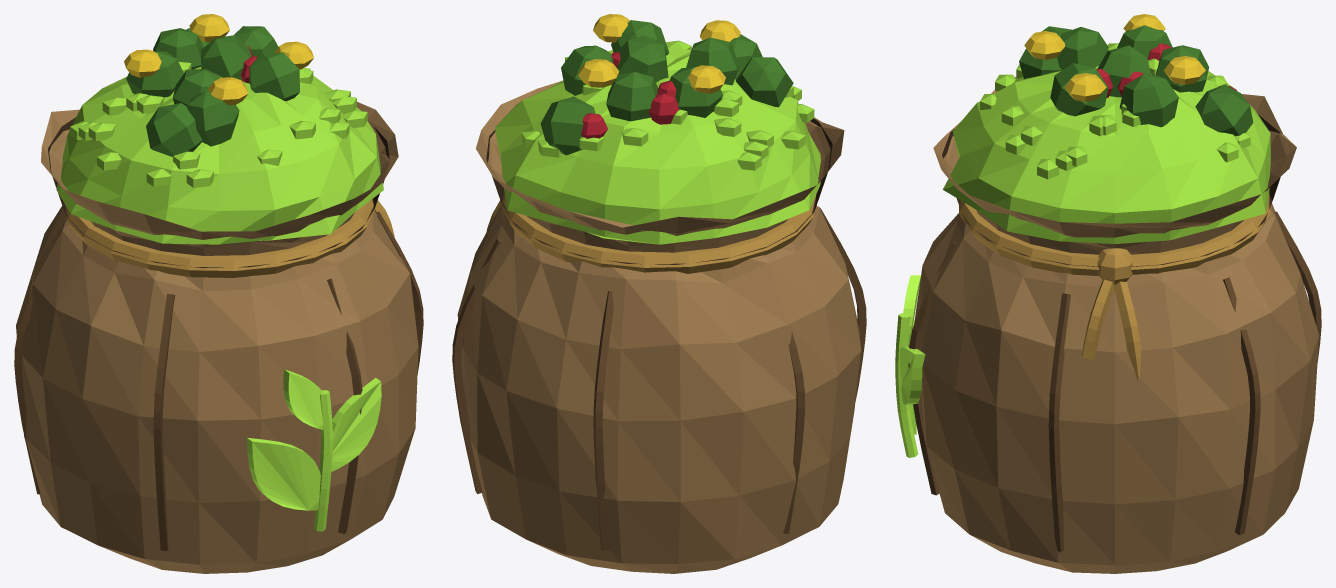
Rendered from VFP_Feed_TamingHerb.obj.
3 views of the same model, side by side, from view 1: azimuth 30°, elevation 25°; view 2: azimuth 150°, elevation 25°; view 3: azimuth 270°, elevation 25° (orthographic).
Parts seen in each view (by area): view 1: Sack, Feed, Herbs, Symbol, Cord, Folds, Flowers, SackInner; view 2: Sack, Feed, Herbs, Folds, Cord, Flowers, Berries, SackInner; view 3: Sack, Feed, Herbs, Cord, Folds, Symbol, Flowers, SackInner, Berries.
Part boxes in pixels (box(x1,y1,x2,y2)): Sack: box(16, 102, 418, 573); Feed: box(56, 61, 383, 244); Herbs: box(126, 26, 299, 156); Symbol: box(247, 369, 381, 531); Cord: box(65, 199, 394, 277); Folds: box(14, 211, 423, 550); Flowers: box(124, 14, 313, 105); SackInner: box(47, 117, 389, 268); Sack: box(457, 80, 861, 573); Feed: box(495, 40, 820, 244); Herbs: box(540, 20, 793, 155); Folds: box(452, 207, 866, 551); Cord: box(486, 194, 815, 273); Flowers: box(578, 14, 740, 93); Berries: box(581, 52, 679, 138); SackInner: box(486, 118, 832, 264); Sack: box(914, 76, 1319, 573); Feed: box(943, 43, 1270, 243); Herbs: box(1019, 25, 1253, 136); Cord: box(959, 192, 1270, 380); Folds: box(908, 211, 1321, 552); Symbol: box(895, 275, 925, 457); Flowers: box(1024, 14, 1205, 101); SackInner: box(942, 114, 1280, 266); Berries: box(1096, 43, 1236, 98).
Size of the model in its own units: 0.269 by 0.3451 by 0.2817.
